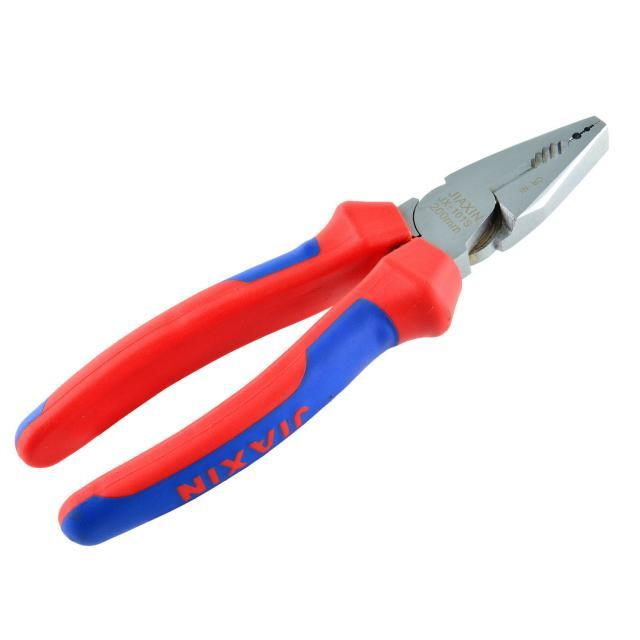pliers: (4, 103, 618, 555)
